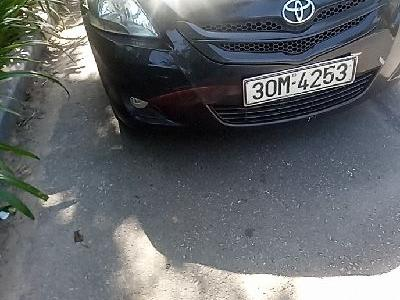car: (241, 53, 360, 108)
